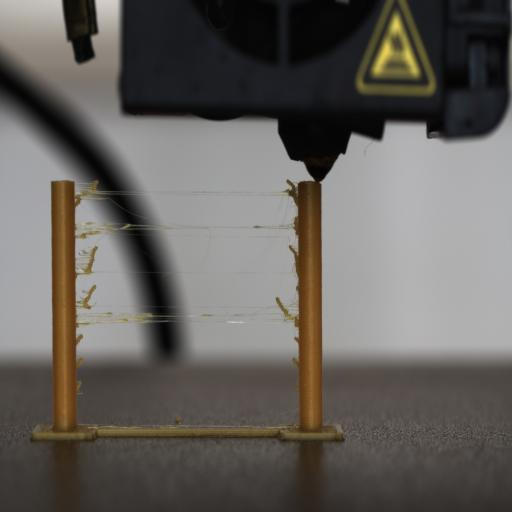stringing: (280, 198, 302, 314), (83, 191, 158, 224), (214, 301, 295, 321), (277, 183, 297, 230), (75, 242, 99, 275), (76, 283, 97, 309), (200, 226, 212, 258), (279, 407, 298, 422), (286, 179, 298, 194), (75, 333, 83, 346), (81, 288, 94, 295), (76, 356, 83, 368), (76, 380, 82, 392)
